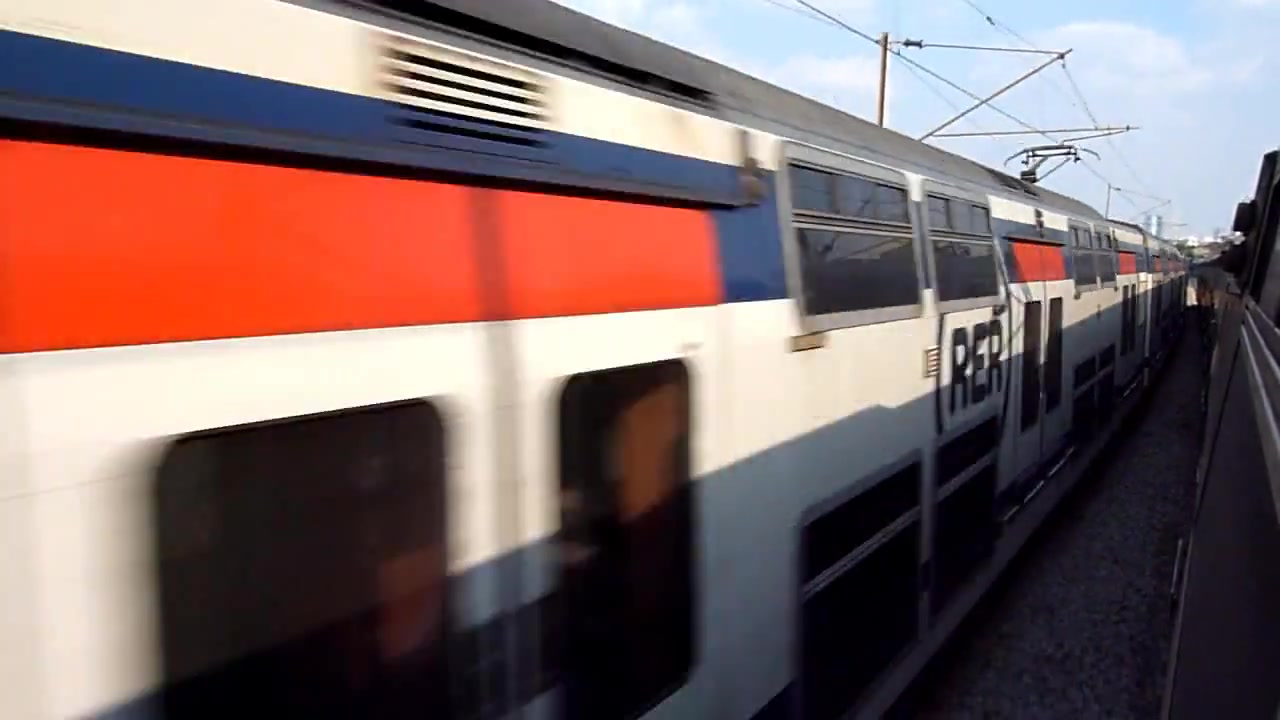train: (1, 1, 1194, 720)
